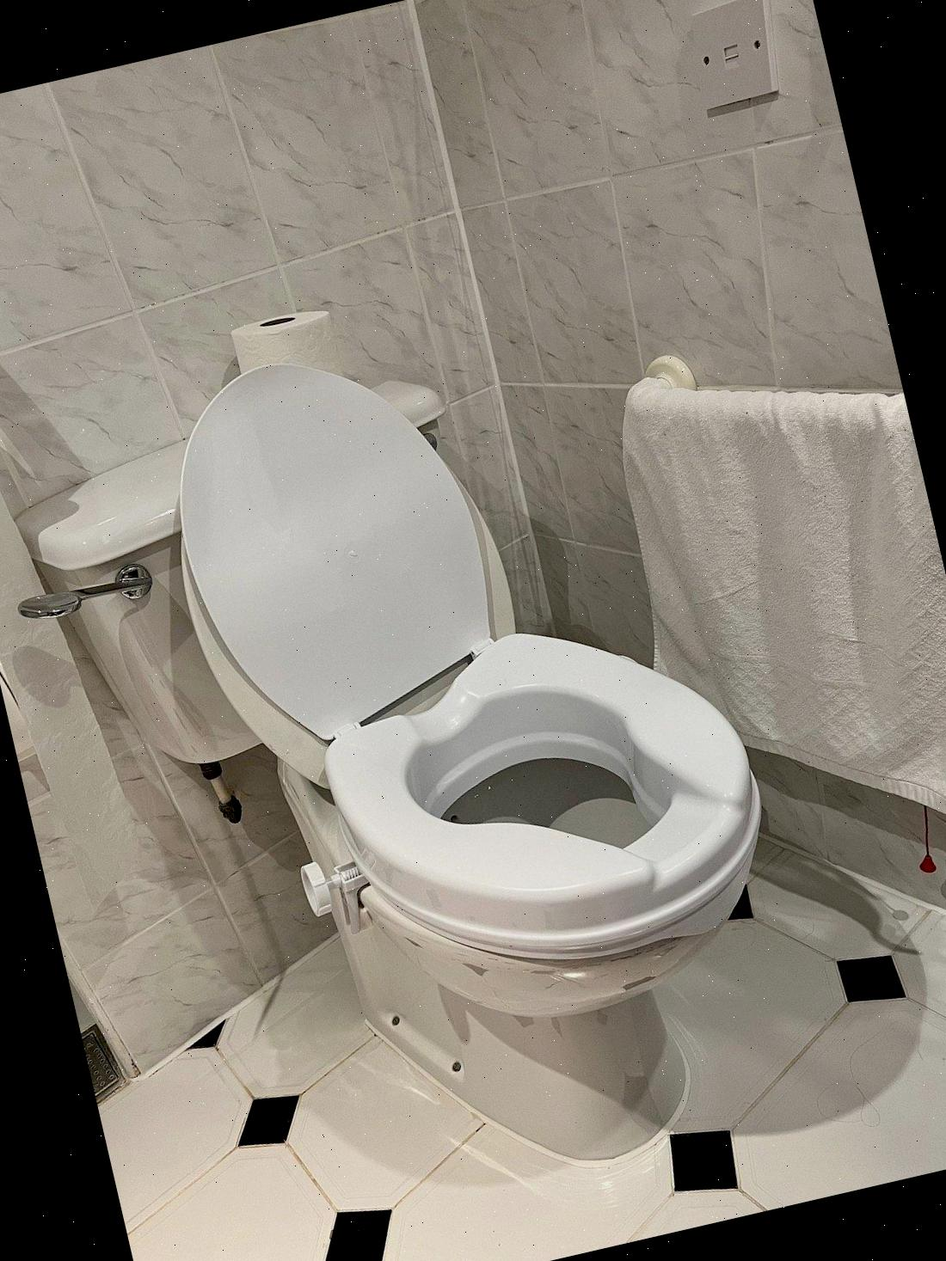clean_floor: (109, 845, 946, 1261)
clean_toilet: (0, 285, 820, 1190)
folded_towel: (604, 337, 946, 822)
